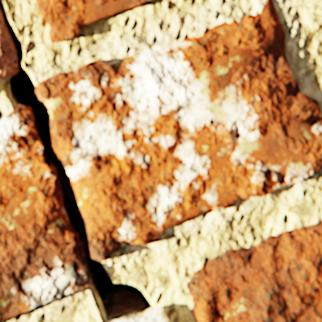brick: (185, 220, 321, 321), (36, 0, 150, 43), (0, 5, 17, 78), (105, 305, 168, 321)
broken_brick: (35, 0, 321, 260), (0, 104, 88, 319)
crack: (0, 0, 152, 319)
